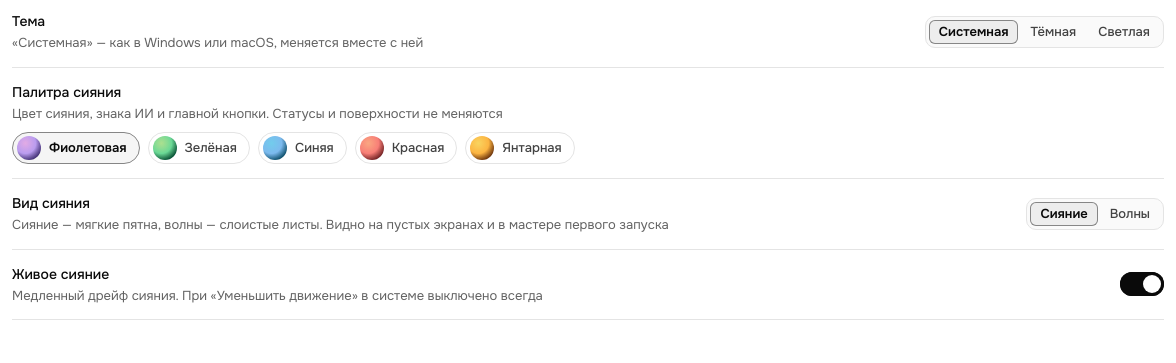
Test: два быстрых выбора, оба не записались — откат к сохранённому до них
The image size is (1176, 363).
Click the radio button labelled "Светлая". click: click(1124, 32)
box: [1088,20,1160,44]
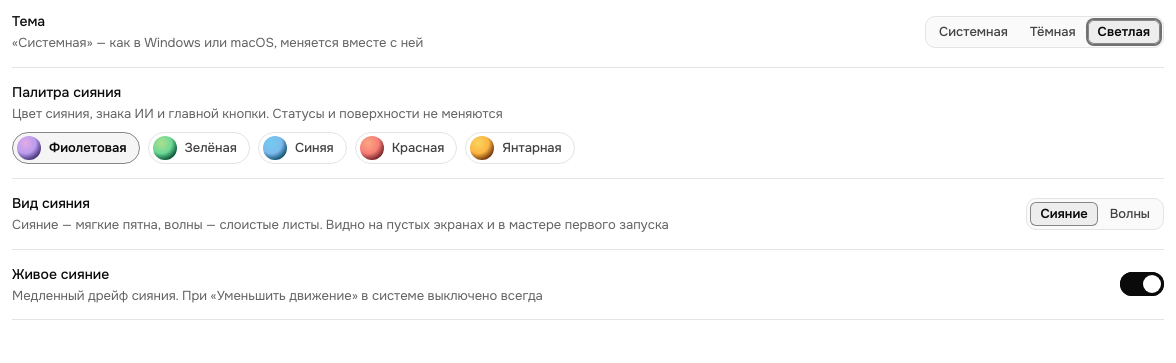
Click the radio button labelled "Тёмная". click: click(1053, 32)
box: [1020,20,1086,44]
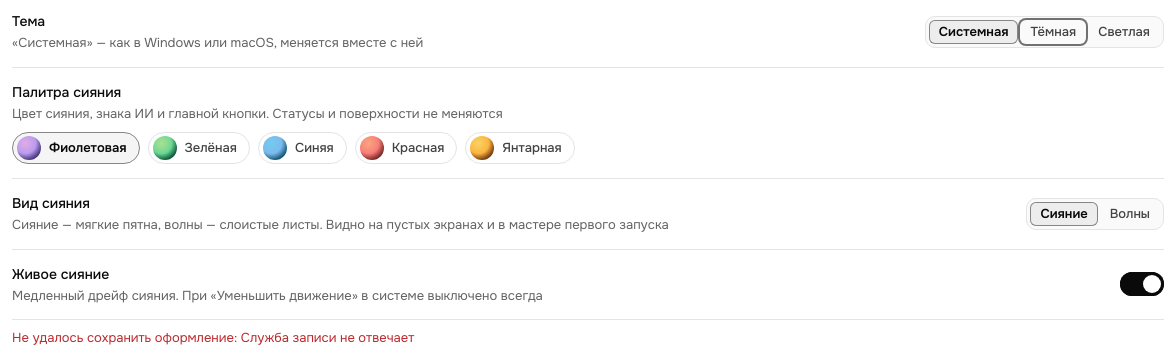
Expected: the radio button labelled "Системная" is checked, [929,20,1018,44]
Expected: the message shows "Служба записи не отвечает", [241,329,414,346]
